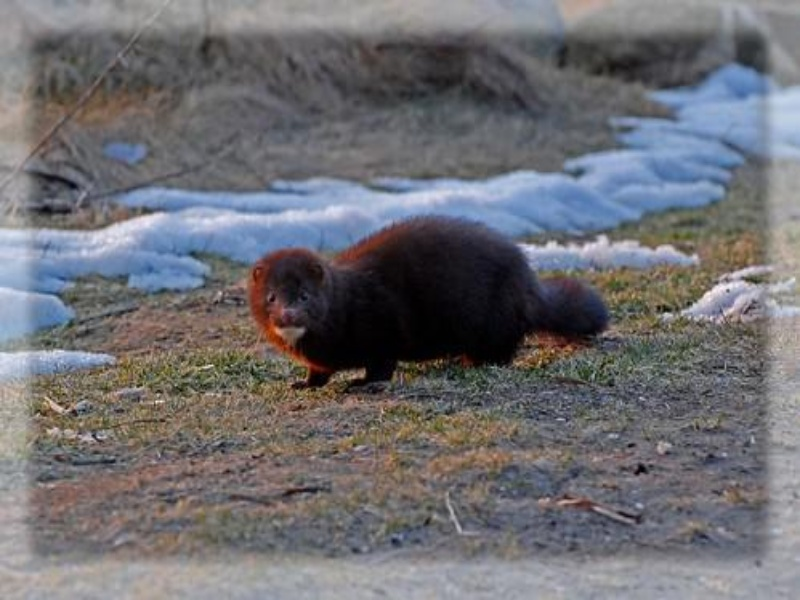minkish: (247, 213, 609, 391)
